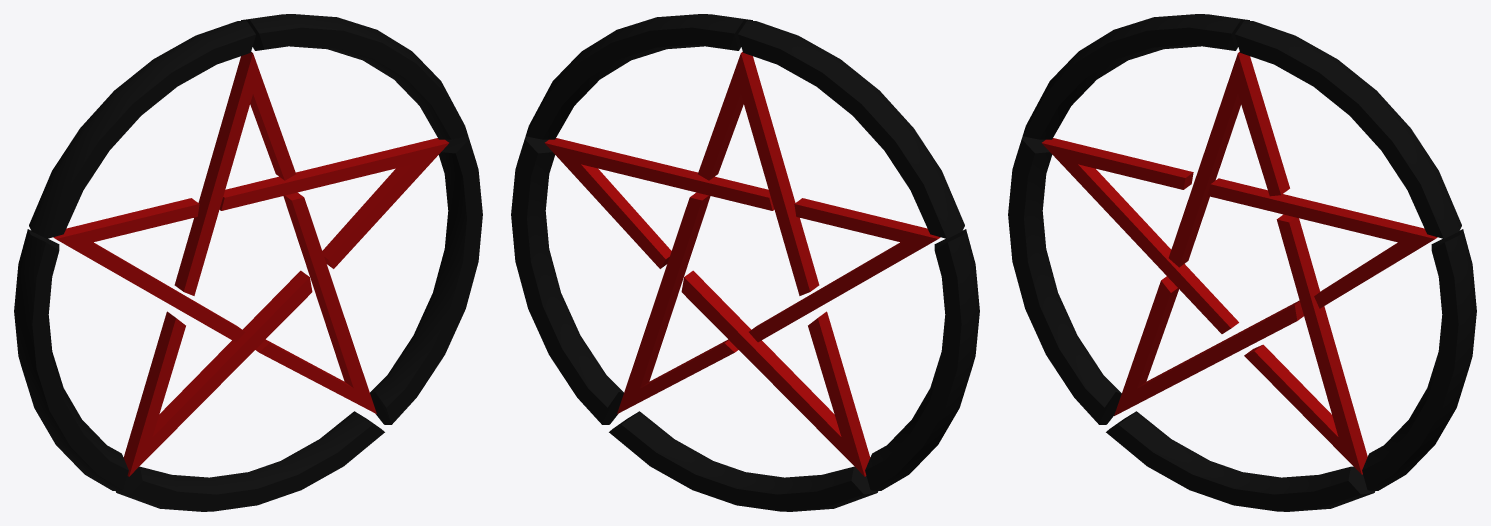
The model's file is Pentacle.fbx.
3 renders of one model, left to right at view 1: azimuth 30°, elevation 25°; view 2: azimuth 150°, elevation 25°; view 3: azimuth 330°, elevation 25°, orthographic.
Visible parts, largest first — view 1: Pentacle; view 2: Pentacle; view 3: Pentacle.
Boxes of the visible parts, left/top/right/bottom form: Pentacle: left=14, top=14, right=482, bottom=511; Pentacle: left=511, top=14, right=979, bottom=511; Pentacle: left=1008, top=14, right=1476, bottom=511.
Bounding box in the file's own units: 292 × 292 × 20.
